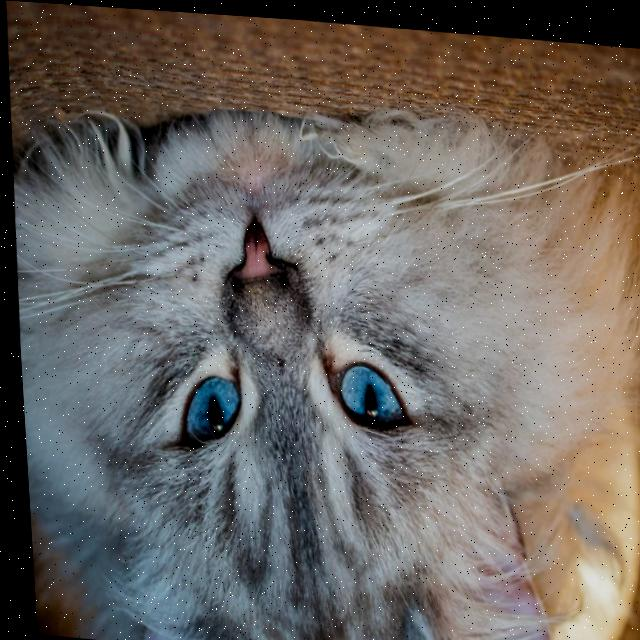Neva Masquerade: (4, 80, 640, 640)
